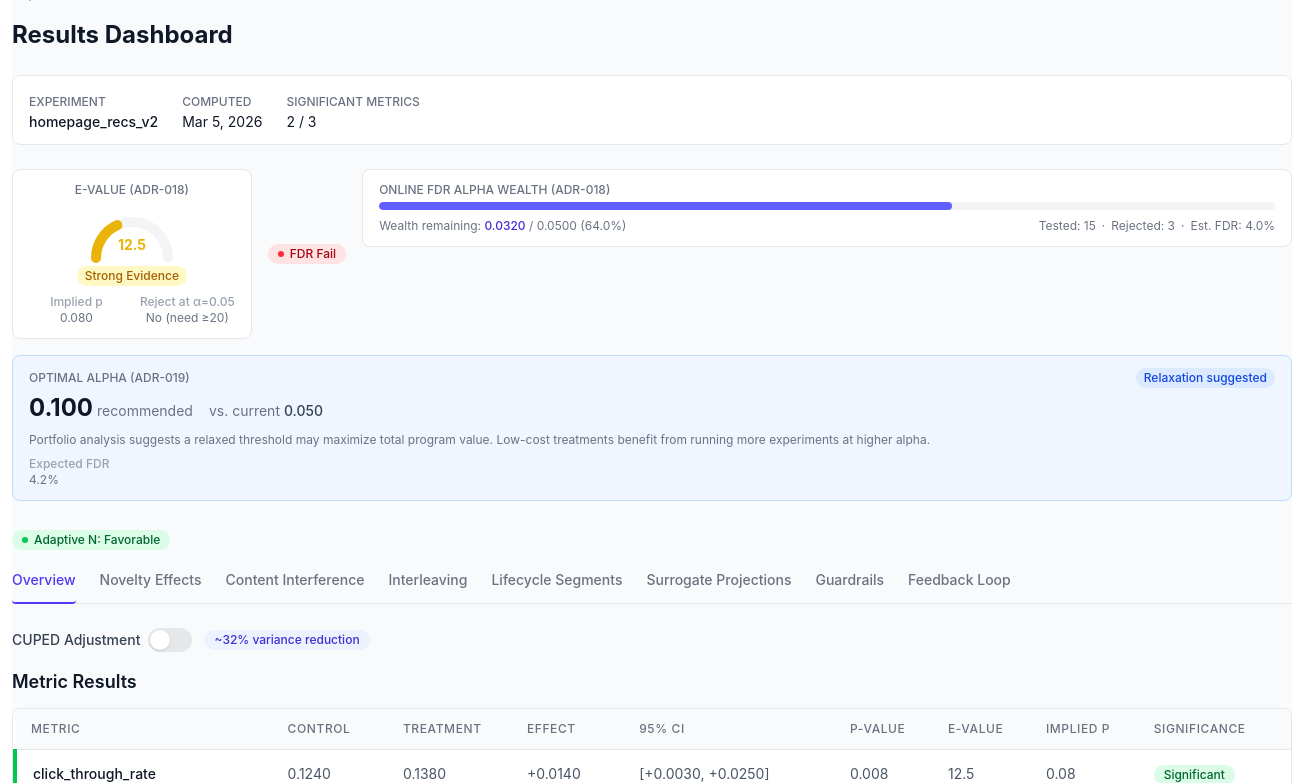
it: Novelty Tab - homepage_recs_v2 › shows current effect and steady-state projection
The image size is (1292, 783).
Click the tab "Novelty Effects". click: [150, 585]
box: [100, 566, 202, 604]
(page scrolled)
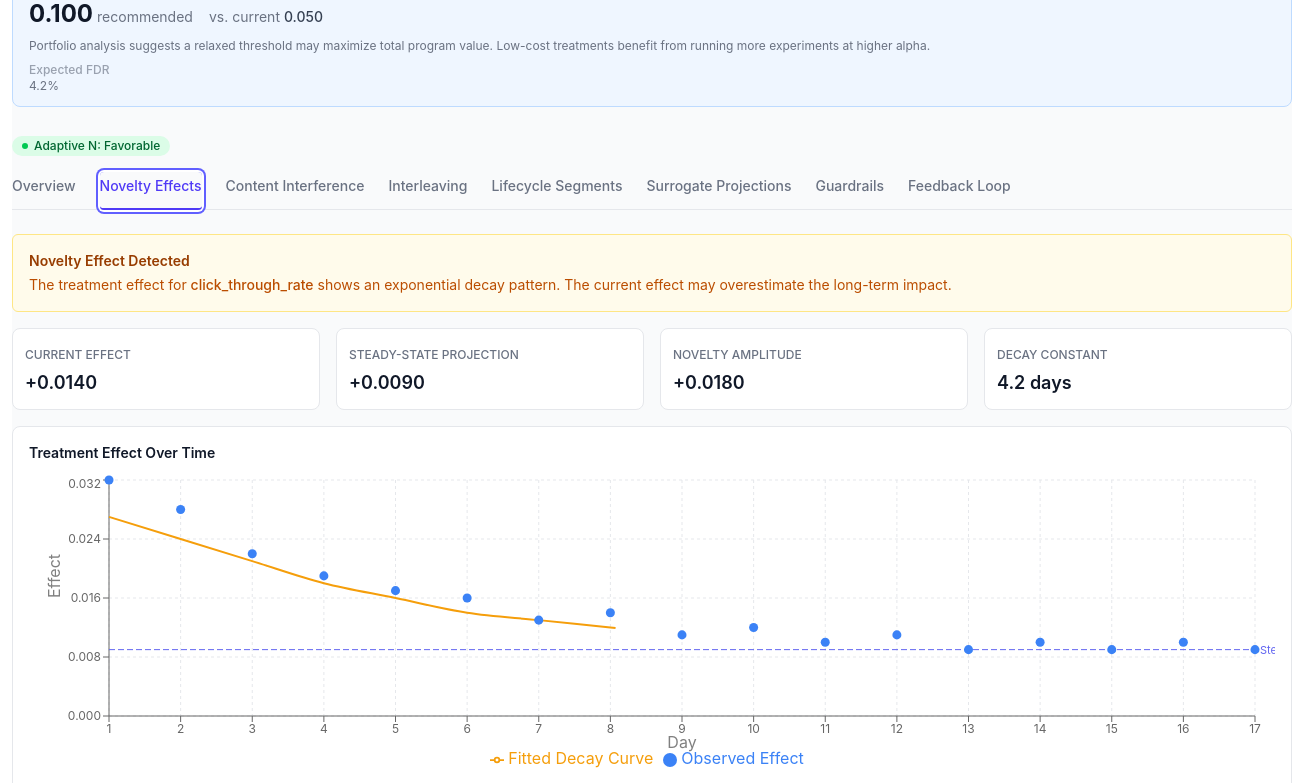
Expected: the text "+0.0140" is shown, [25, 372, 97, 393]
Result: the text "+0.0090" is shown at [349, 372, 425, 393]
